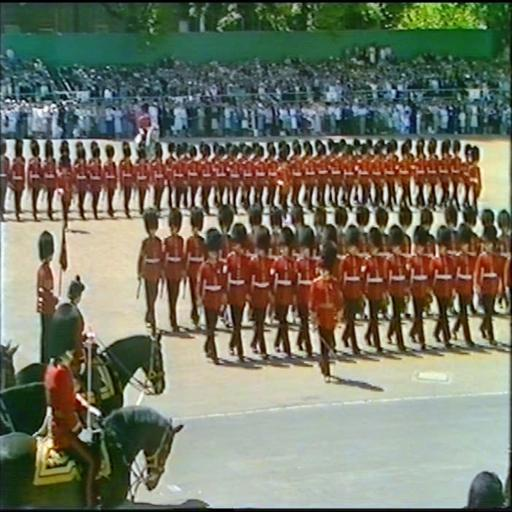horse: (0, 405, 187, 508), (0, 324, 166, 428)
